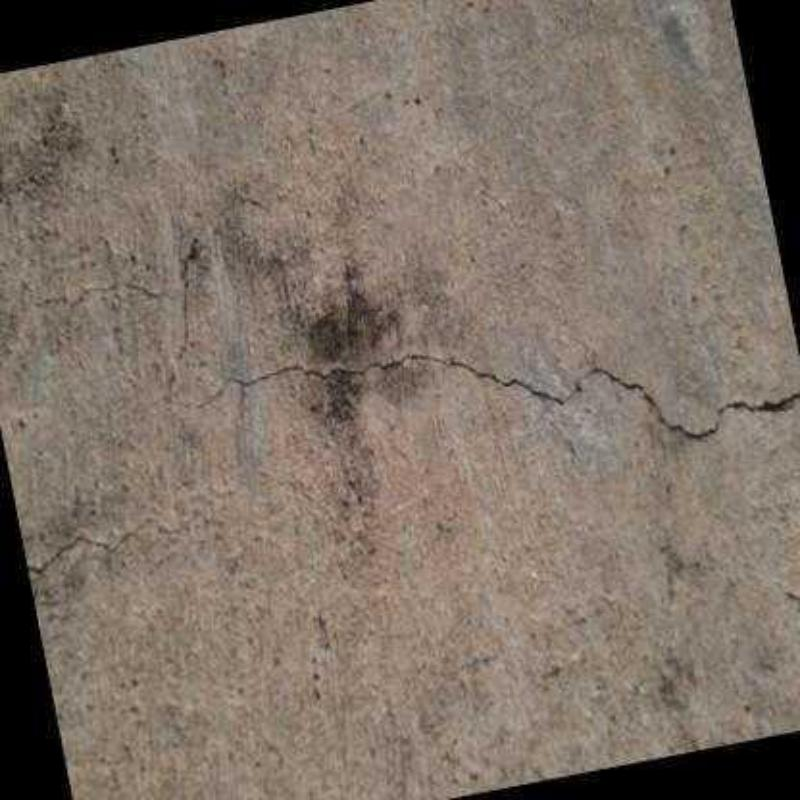crack: (166, 349, 800, 438)
